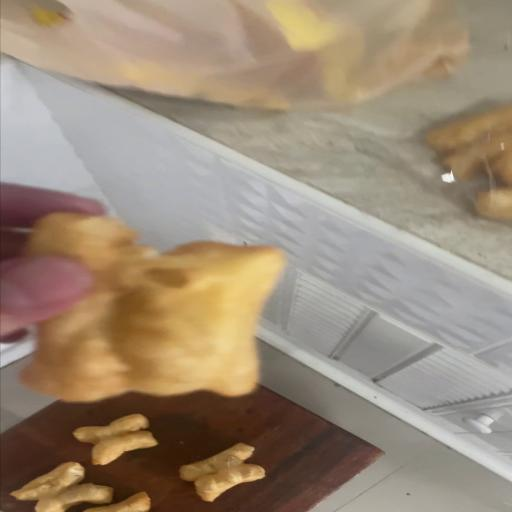street_golden_defect: (21, 213, 285, 402)
